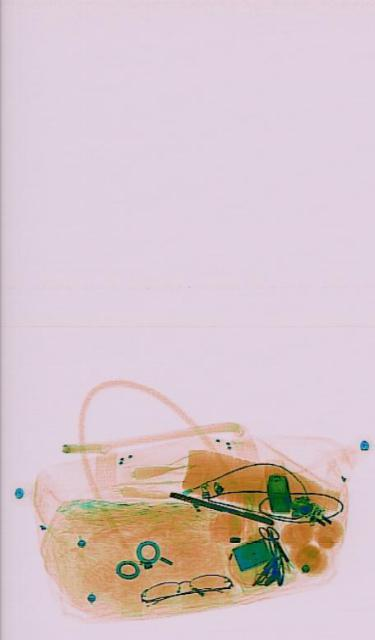Scissors: (255, 512, 292, 570)
